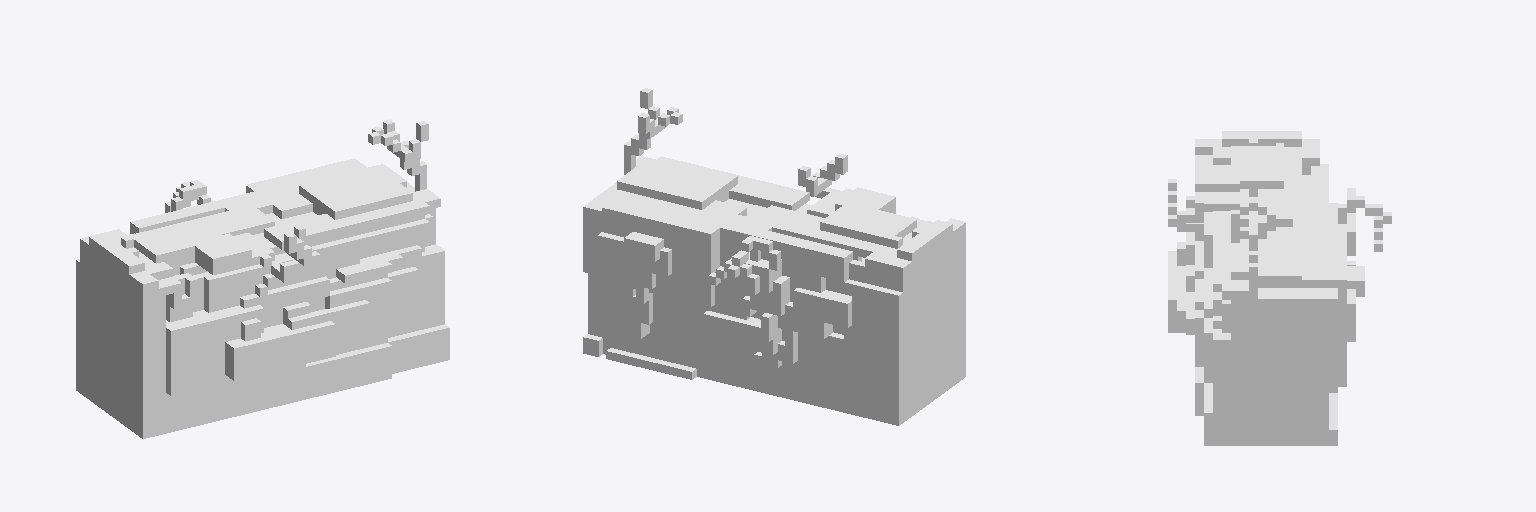
Rendered from snow4.obj.
The picture shows the model from 3 angles: view 1: azimuth 30°, elevation 25°; view 2: azimuth 150°, elevation 25°; view 3: azimuth 270°, elevation 25°; orthographic projection.
Visible parts, largest first — view 1: object 1; view 2: object 1; view 3: object 1.
Part boxes in pixels (x1,y1,x2,y2): object 1: (76, 119, 449, 438); object 1: (583, 88, 965, 425); object 1: (1168, 131, 1391, 445).
Bounding box in the file's own units: 4 × 2.8 × 2.5.